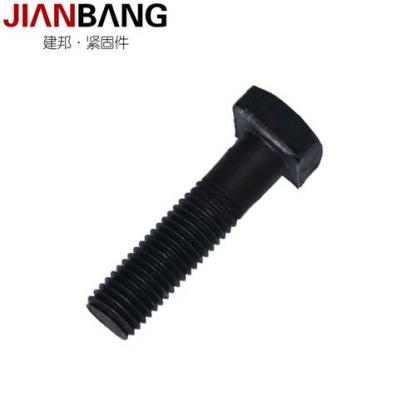FOD: (82, 80, 326, 343)
